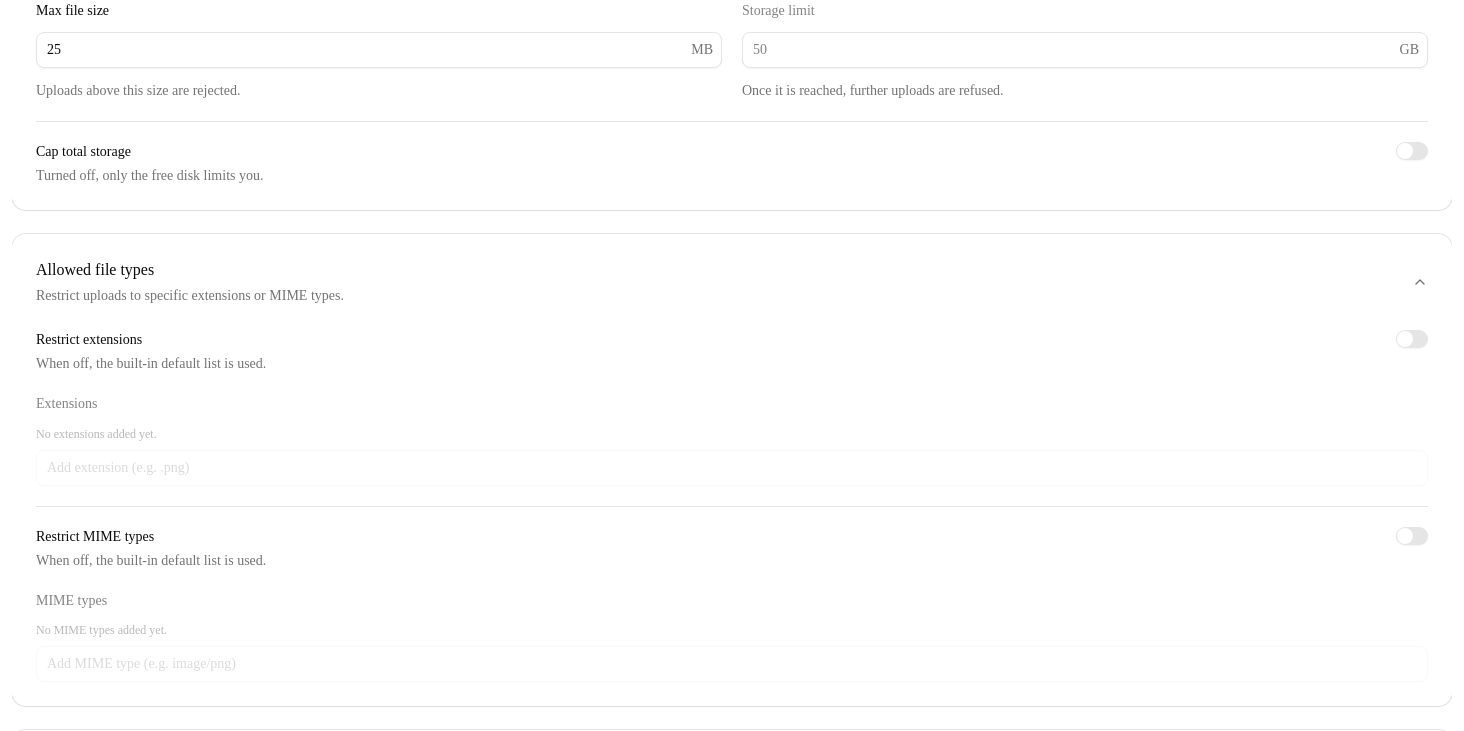
Test: UploadSettings › adds a normalized extension chip when the restriction is enabled
This screenshot has width=1464, height=731.
(page scrolled)
Click the switch named "Restrict extensions" in the row of "Restrict extensions" at (1412, 339), box [1396, 330, 1428, 348]
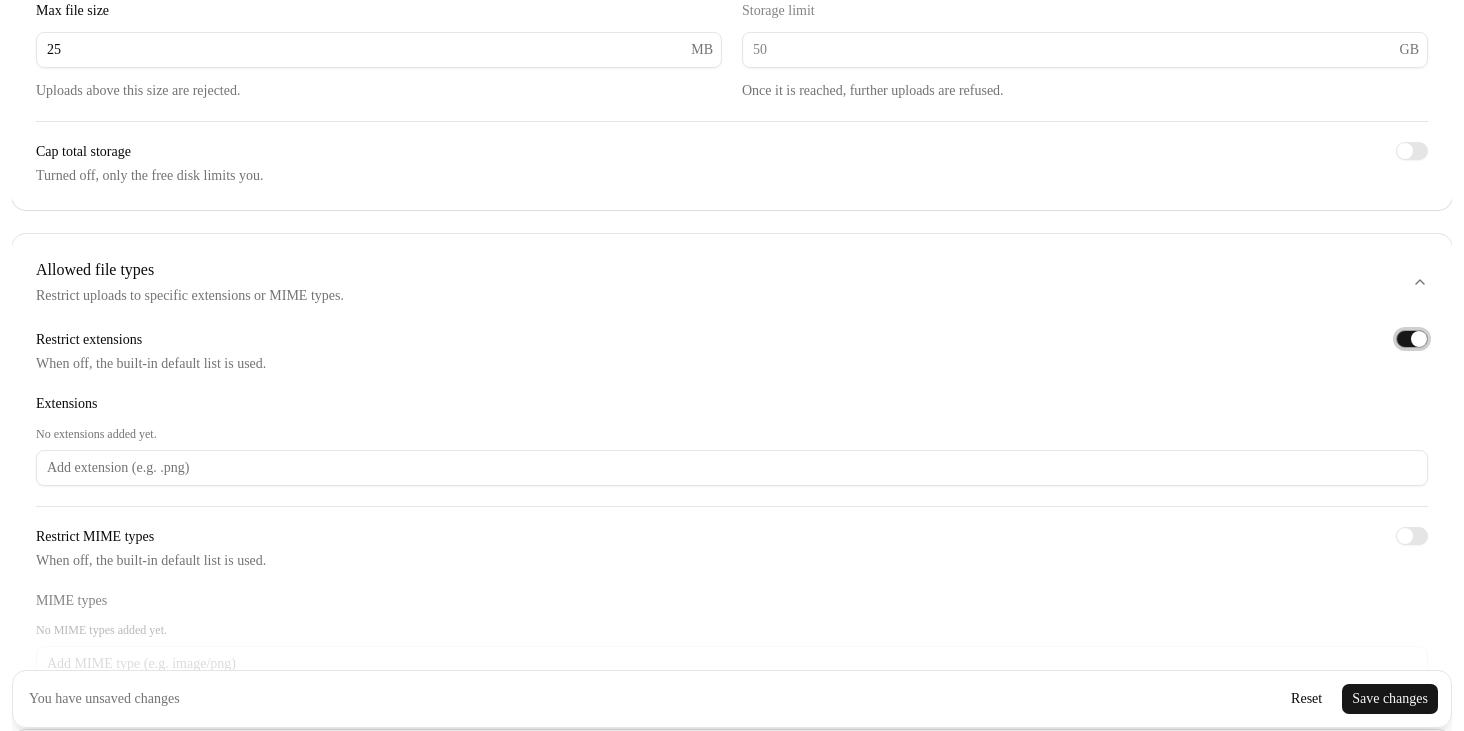
Type ".PNG" into the field with placeholder "Add extension (e.g. .png)" at (732, 468), box [36, 450, 1428, 486]
Then press Enter
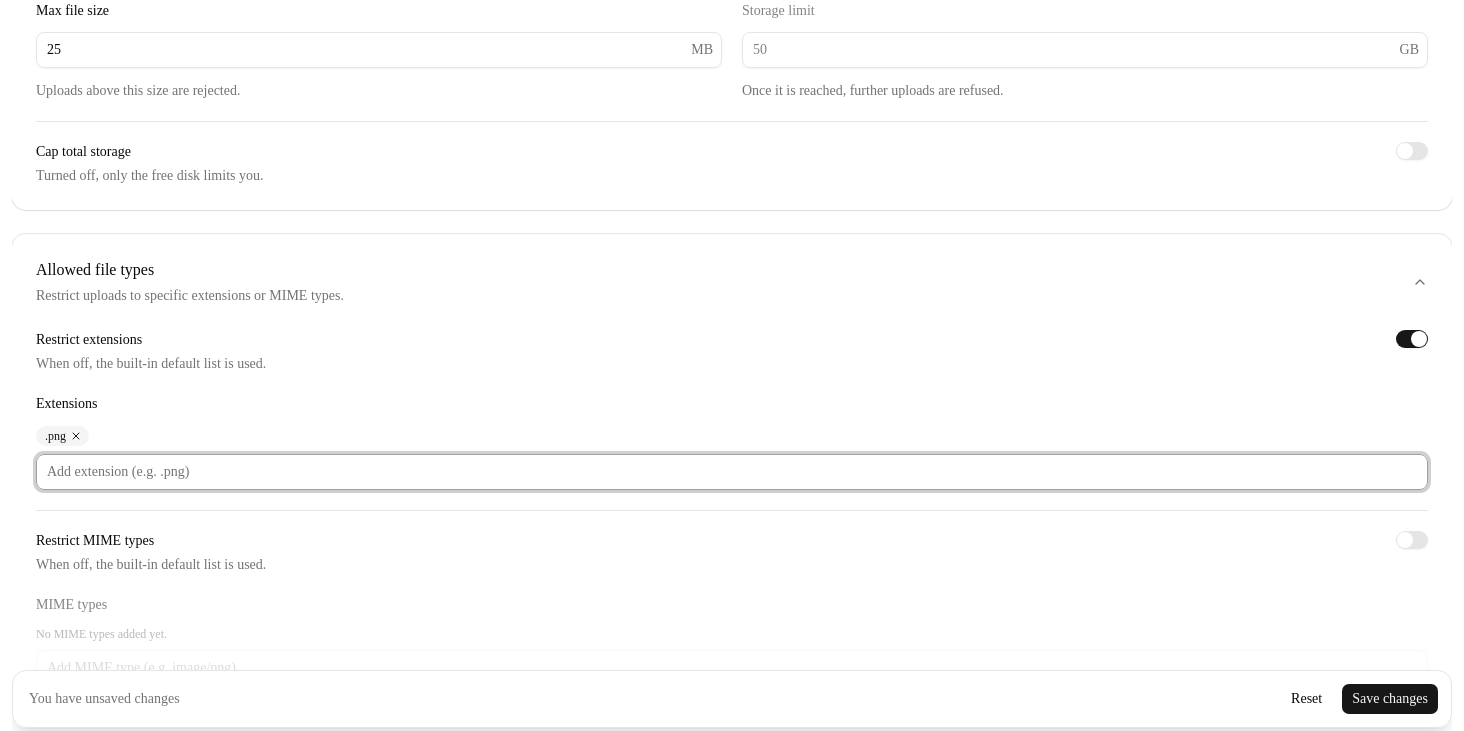
expect the icon ".png" is shown: met, box [36, 426, 89, 446]
